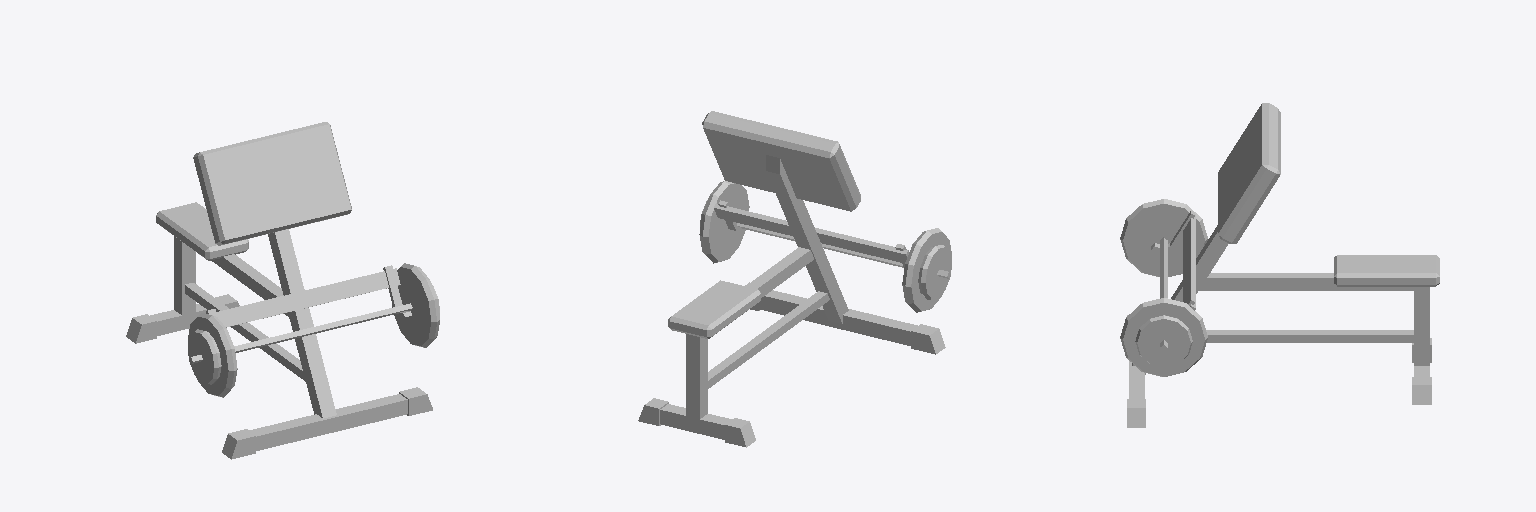
The model's file is training_item_001.obj.
The picture shows the model from 3 angles: view 1: azimuth 30°, elevation 25°; view 2: azimuth 150°, elevation 25°; view 3: azimuth 270°, elevation 25°; orthographic projection.
Parts seen in each view (by area): view 1: training_item_001; view 2: training_item_001; view 3: training_item_001.
Boxes of the visible parts, box(x1,y1,x2,y2) form: training_item_001: box(126, 122, 439, 459); training_item_001: box(638, 111, 951, 447); training_item_001: box(1120, 103, 1439, 427).
Bounding box in the file's own units: 1.14 × 1.09 × 1.28.